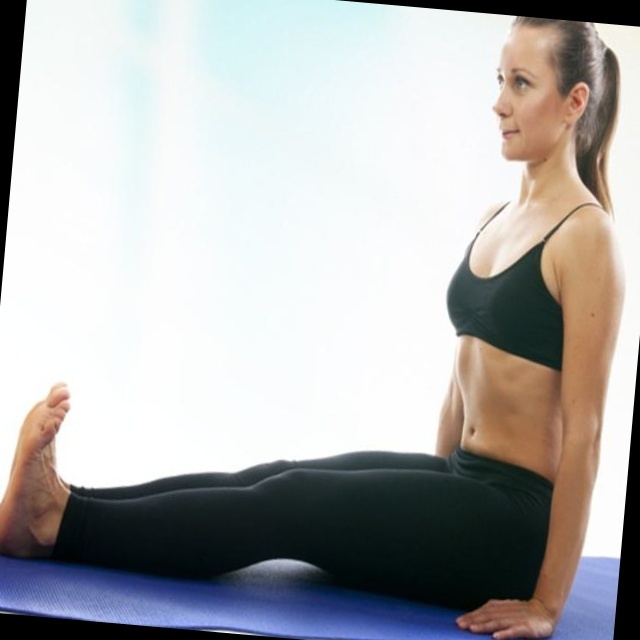Staff_Pose: (3, 17, 629, 640)
